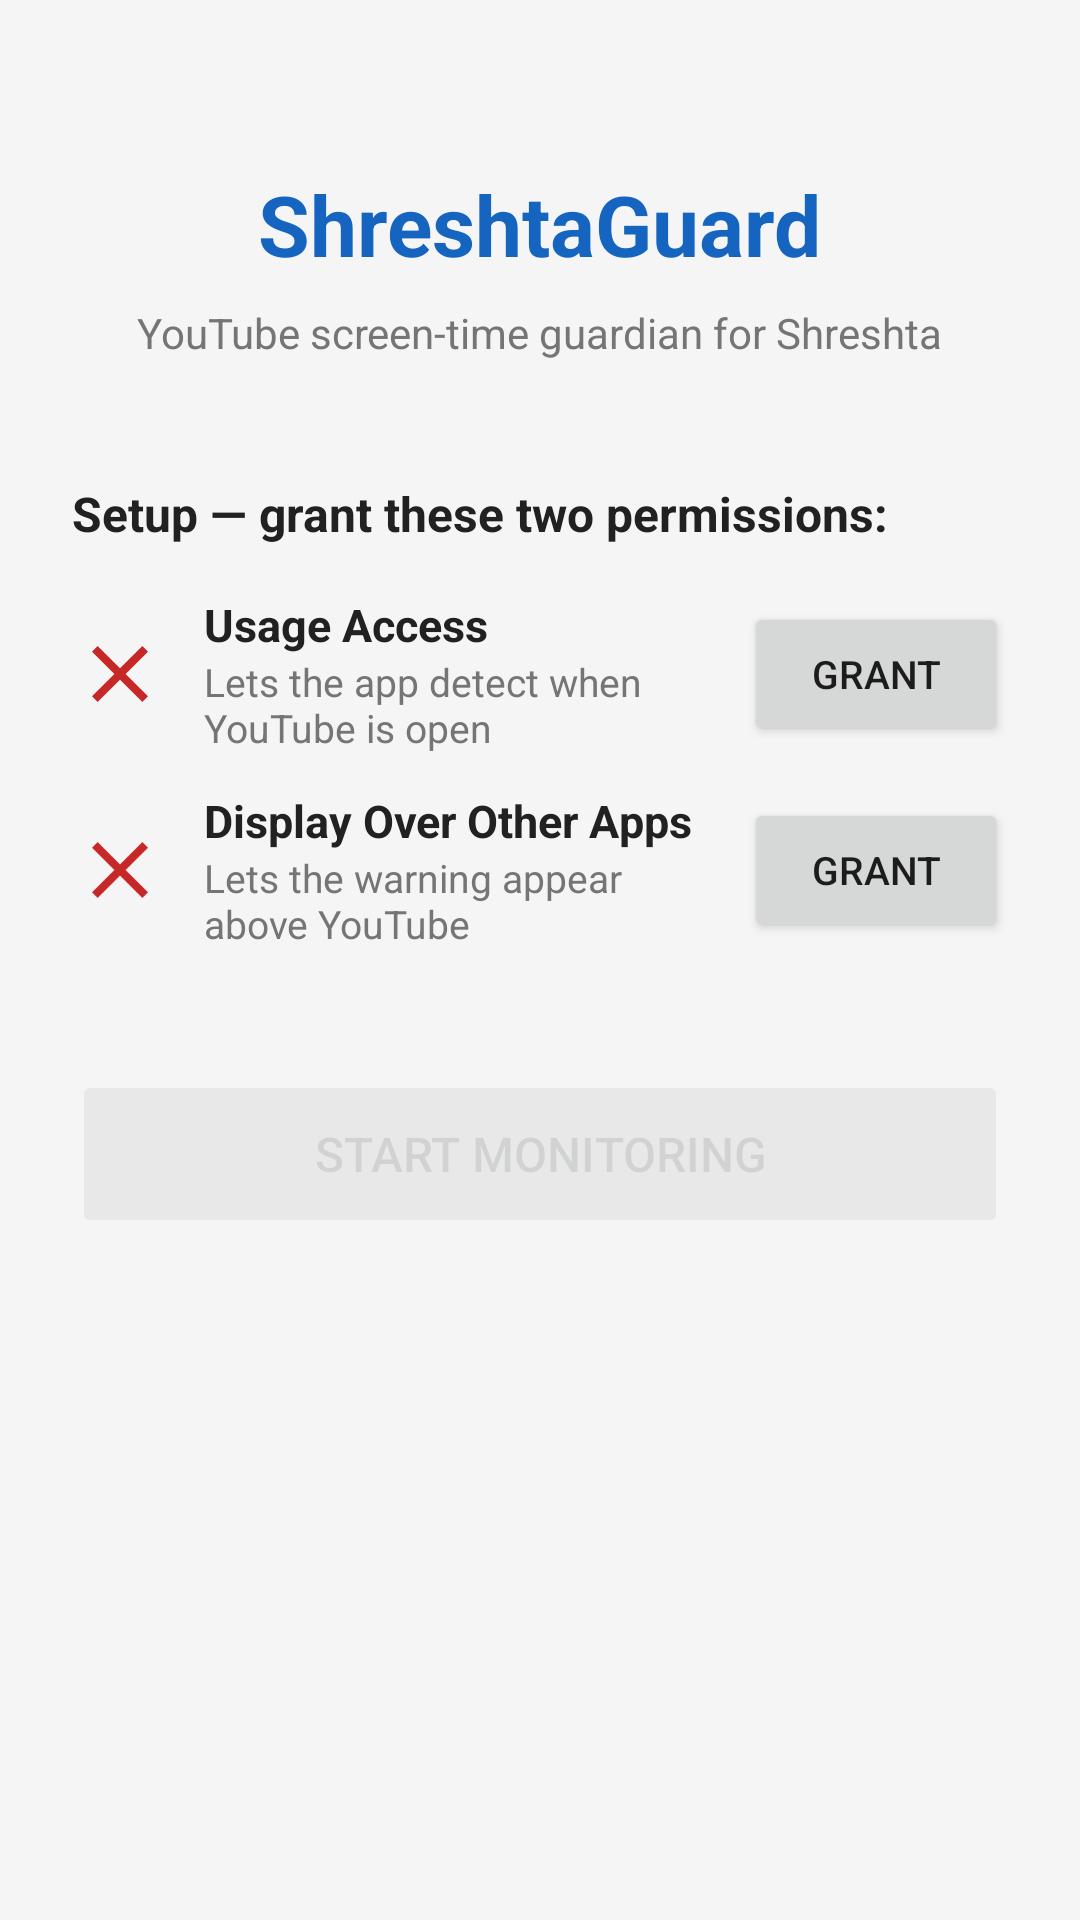

Point at icon controls on the screen. Image size 1080px x 1920px, points as (x,y).
Overlay permission status: (120,870)
